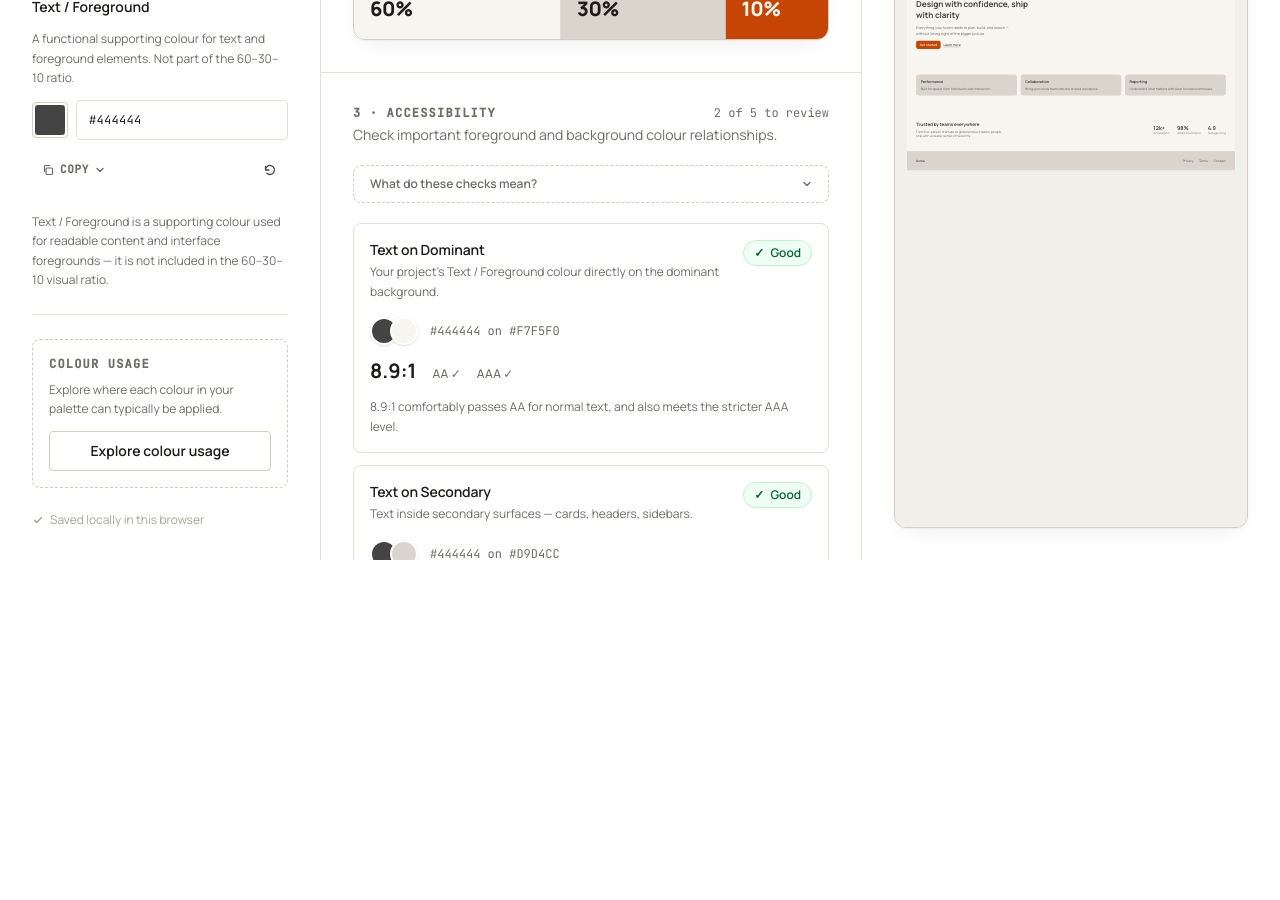
Test: WorkspaceShell › colour usage entry point › is not open by default, and opens the colour usage panel on demand
(page scrolled)
Click the button "Explore colour usage": [160, 450] box [49,430,271,470]
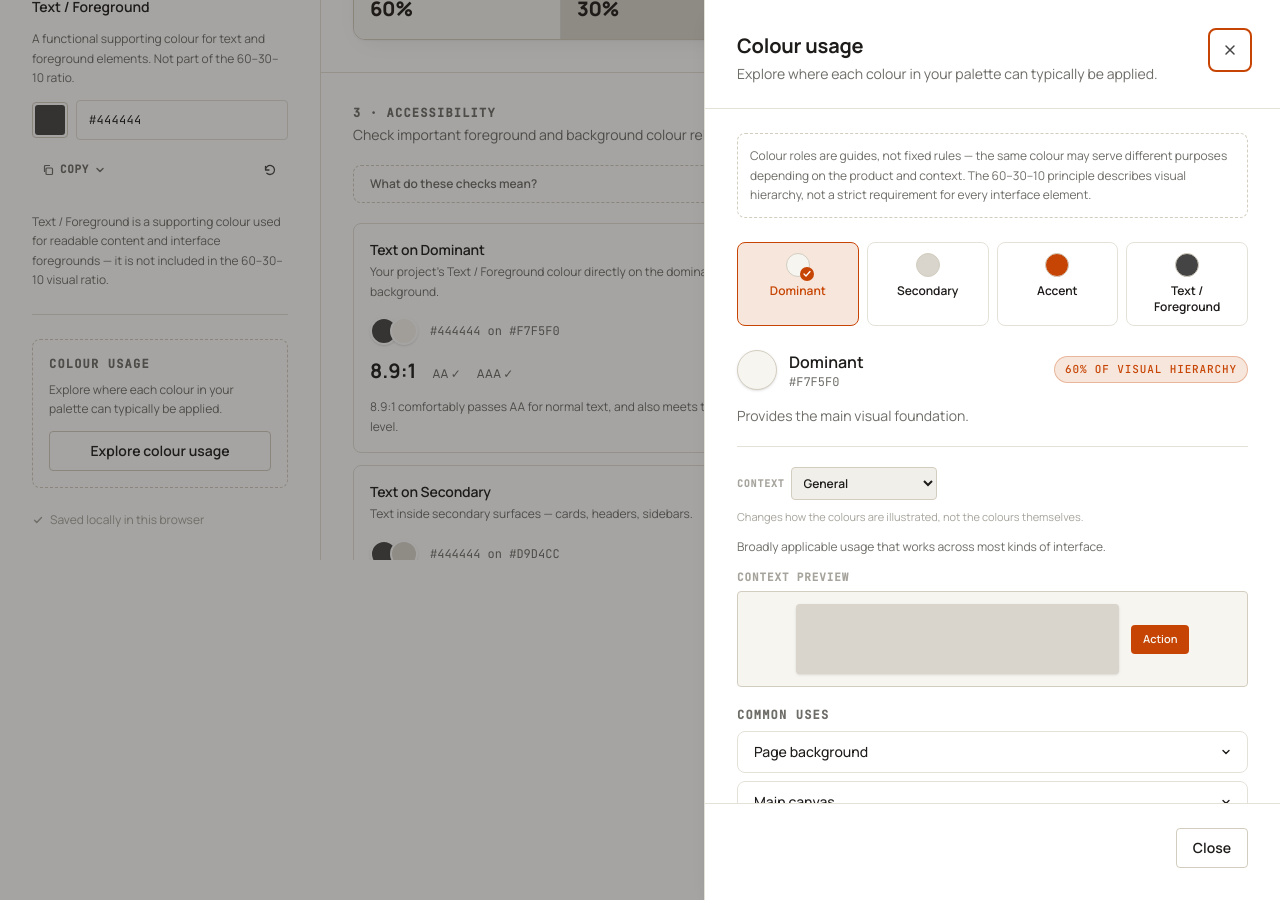
Expected: the dialog "Colour usage" is shown, [704,0,1279,899]
